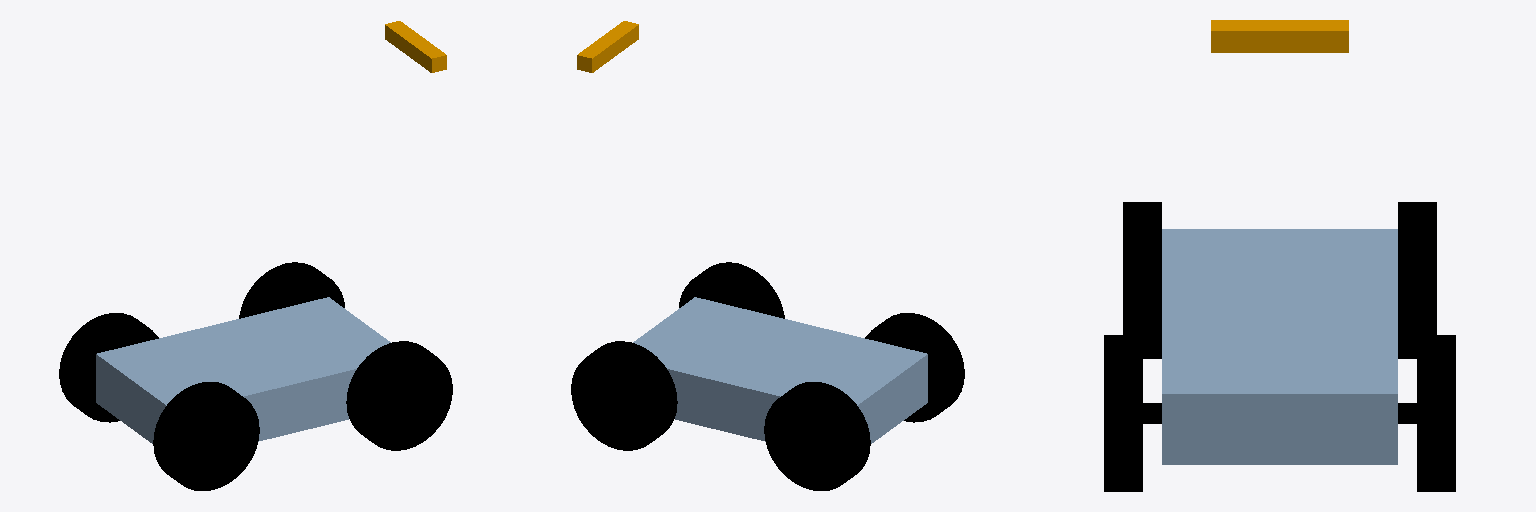
The robot description file, URDF, robot "simplecar":
<?xml version="1.0"?> 
<robot name="simplecar">
    <!-- Colors --> 
    <material name="black"> 
        <color rgba="0 0 0 1"/>
    </material>
    <material name="blue"> 
        <color rgba="0.6 0.7 0.8 1"/>
    </material>


    <!-- Base Frame of Car --> 
    <link name="base_link">
        <visual> 
            <origin rpy="0 0 0" xyz="0 0 0"/>
            <geometry> 
                <box size="0.5 0.3 0.1"/>
            </geometry>
            <material name="blue"/>
        </visual>
        <inertial>
            <mass value="6"/>
            <inertia ixx="0.1" ixy="0" ixz="0" iyy="0.1" iyz="0.0" izz="0.1"/>
        </inertial> 
    </link> 


    <!-- Left Front Wheel -->
    <link name="left_front_wheel">
        <visual> 
            <geometry> 
                <cylinder length="0.05" radius="0.1"/>
            </geometry>
            <origin rpy="1.57075 1.57075 0"/>
            <material name="black"/>
        </visual>
        <collision> 
             <geometry> 
                <cylinder length="0.05" radius="0.1"/>
            </geometry>
            <origin rpy="1.57075 1.57075 0"/>
        </collision> 
        <inertial> 
            <origin rpy="1.57075 1.57075 0"/>
            <mass value="0.3"/>
            <inertia ixx="0.4" ixy="0" ixz="0" iyy="0.4" iyz="0.0" izz="0.2"/>
        </inertial> 
    </link> 
    <joint name="left_hinge_to_left_front_wheel" type="continuous">
        <parent link="left_hinge"/>
        <child link="left_front_wheel"/> 
        <axis xyz="0 1 0"/>
        <origin xyz="0 0.2 0"/>
    </joint>
    <!-- Left Front Wheel - Hinge -->
    <link name="left_hinge">
        <visual> 
            <geometry> 
                <box size="0.20 0.02 0.02"/>
            </geometry>
            <origin xyz="0 0.1 0 " rpy="0 0 1.57075"/>
            <material name="black"/>
        </visual>
        <inertial> 
            <origin rpy="0 0 1.57075"/>
            <mass value="0.01"/>
            <inertia ixx="5E-6" ixy="0" ixz="0" iyy="5E-6" iyz="0" izz="5E-6"/>
        </inertial> 
    </link> 
    <joint name="base_to_left_hinge" type="revolute">
        <parent link="base_link"/>
        <child link="left_hinge"/> 
        <axis xyz="0 0 1"/>
        <origin xyz="0.2 0.0 0"/>
        <limit effort="100" lower="-0.5" upper="0.5" velocity="100"/>
    </joint>
    <!-- Right Front Wheel -->
    <link name="right_front_wheel">
        <visual> 
            <geometry> 
                <cylinder length="0.05" radius="0.1"/>
            </geometry>
            <origin rpy="-1.57075 -1.57075 0"/>
            <material name="black"/>
        </visual>
        <collision> 
             <geometry> 
                <cylinder length="0.05" radius="0.1"/>
            </geometry>
            <origin rpy="-1.57075 -1.57075 0"/>
        </collision> 
        <inertial> 
            <origin rpy="-1.57075 -1.57075 0"/>
            <mass value="0.3"/>
            <inertia ixx="0.4" ixy="0" ixz="0" iyy="0.4" iyz="0.0" izz="0.2"/>
        </inertial> 
    </link> 
    <joint name="right_hinge_to_right_front_wheel" type="continuous">
        <parent link="right_hinge"/>
        <child link="right_front_wheel"/> 
        <axis xyz="0 1 0"/>
        <origin xyz="0 -0.2 0"/>
    </joint>
    <!-- Right Front Wheel - Hinge -->
    <link name="right_hinge">
        <visual> 
            <geometry> 
                <box size="0.20 0.02 0.02"/>
            </geometry>
            <origin xyz="0 -0.1 0 " rpy="0 0 -1.57075"/>
            <material name="black"/>
        </visual>
        <inertial> 
            <origin rpy="0 0 -1.57075"/>
            <mass value="0.01"/>
            <inertia ixx="5E-6" ixy="0" ixz="0" iyy="5E-6" iyz="0" izz="5E-6"/>
        </inertial> 
    </link> 
    <joint name="base_to_right_hinge" type="revolute">
        <parent link="base_link"/>
        <child link="right_hinge"/> 
        <axis xyz="0 0 1"/>
        <origin xyz="0.2 0 0"/>
        <limit effort="100" lower="-0.5" upper="0.5" velocity="100"/>
    </joint>
    <!-- Left Back Wheel -->
    <link name="left_back_wheel">
        <visual> 
            <geometry> 
                <cylinder length="0.05" radius="0.1"/>
            </geometry>
            <origin rpy="1.57075 1.57075 0"/>
            <material name="black"/>
        </visual>
        <collision> 
             <geometry> 
                <cylinder length="0.05" radius="0.1"/>
            </geometry>
            <origin rpy="1.57075 1.57075 0"/>
        </collision> 
        <inertial> 
            <origin rpy="1.57075 1.57075 0"/>
            <mass value="0.3"/>
            <inertia ixx="0.4" ixy="0" ixz="0" iyy="0.4" iyz="0.0" izz="0.2"/>
        </inertial> 
    </link> 
    <joint name="base_to_left_back_wheel" type="continuous">
        <parent link="base_link"/>
        <child link="left_back_wheel"/> 
        <axis xyz="0 1 0"/>
        <origin xyz="-0.2 0.175 0"/>
    </joint>
    <!-- Right Back Wheel -->
    <link name="right_back_wheel">
        <visual> 
            <geometry> 
                <cylinder length="0.05" radius="0.1"/>
            </geometry>
            <origin rpy="-1.57075 -1.57075 0"/>
            <material name="black"/>
        </visual>
        <collision> 
             <geometry> 
                <cylinder length="0.05" radius="0.1"/>
            </geometry>
            <origin rpy="-1.57075 -1.57075 0"/>
        </collision> 
        <inertial> 
            <origin rpy="-1.57075 -1.57075 0"/>
            <mass value="0.3"/>
            <inertia ixx="0.4" ixy="0" ixz="0" iyy="0.4" iyz="0.0" izz="0.2"/>
        </inertial> 
    </link> 
    <joint name="base_to_right_back_wheel" type="continuous">
        <parent link="base_link"/>
        <child link="right_back_wheel"/> 
        <axis xyz="0 1 0"/>
        <origin xyz="-0.2 -0.175 0"/>
    </joint>
    <link name="laser">
    <inertial>
      <origin rpy="0 0 0" xyz="0 0 0"/>
      <mass value="0.130"/>
      <inertia ixx="4E-06" ixy="0" ixz="0" iyy="4E-06" iyz="0" izz="4E-06"/>
    </inertial>
    <collision>
      <origin rpy="0 0 0" xyz="0 0 0"/>
      <geometry>
        <box size="0.1 0.1 0.1"/>
      </geometry>
    </collision>
    <visual>
      <origin rpy="0 0 0" xyz="0 0 0"/>
      <geometry>
        <mesh filename="meshes/hokuyo.obj"/>
        <material name="grey"/>
      </geometry>
    </visual>
  </link>
  <joint name="hokuyo_joint" type="fixed">
    <origin rpy="0 0 0" xyz="0.1 0.0 0.075"/>
    <parent link="base_link"/>
    <child link="laser"/>
    <axis xyz="0 0 1"/>
  </joint>
  
  <!-- zed camera -->
  <link name="zed_camera_link">
    <inertial>
      <mass value="0.1"/>
      <origin rpy="0 0 0" xyz="0 0 0"/>
      <inertia ixx="1e-6" ixy="0" ixz="0" iyy="1e-6" iyz="0" izz="1e-6"/>
    </inertial>
    <collision>
      <origin rpy="0 0 0" xyz="0 0 0"/>
      <geometry>
        <box size="0.033 0.175 0.030"/>
      </geometry>
    </collision>
    <visual>
      <origin rpy="0 0 0" xyz="0 0 0"/>
      <geometry>
        <box size="0.033 0.175 0.030"/>
      </geometry>
      <material name="red"/>
    </visual>
  </link>
  <joint name="zed_camera_joint" type="fixed">
    <origin rpy="0 0 0" xyz="0.35 0 0.6"/>
    <!--origin rpy="0 89 0" xyz="1 0 1"/-->
    <parent link="base_link"/>
    <child link="zed_camera_link"/>
    <axis xyz="0 0 1"/>
  </joint>

  
  <!-- zed camera lenses -->
  <!-- It seems these have to have a non-zero mass to have a camera attached? -->
  <link name="camera_link">
    <!-- this needs to match the name in zed_wrapper/zed_tf.launch -->
    <inertial>
      <mass value="0.01"/>
      <origin rpy="0 0 0" xyz="0 0 0"/>
      <inertia ixx="1e-6" ixy="0" ixz="0" iyy="1e-6" iyz="0" izz="1e-6"/>
    </inertial>
  </link>
  <link name="zed_camera_right_link">
    <inertial>
      <mass value="0.01"/>
      <origin rpy="0 0 0" xyz="0 0 0"/>
      <inertia ixx="1e-6" ixy="0" ixz="0" iyy="1e-6" iyz="0" izz="1e-6"/>
    </inertial>
  </link>
  <joint name="zed_camera_left_joint" type="fixed">
    <origin rpy="0 0 0" xyz="0 0.06 0"/>
    <parent link="zed_camera_link"/>
    <child link="camera_link"/>
    <axis xyz="0 0 1"/>
  </joint>
  <joint name="zed_camera_right_joint" type="fixed">
    <origin rpy="0 0 0" xyz="0 -0.06 0"/>
    <parent link="zed_camera_link"/>
    <child link="zed_camera_right_link"/>
    <axis xyz="0 0 1"/>
  </joint>
</robot>

--- Facts derived from the render (not from the file) ---
Views: 3 orthographic renders of the robot side by side, from view 1: azimuth 30°, elevation 25°; view 2: azimuth 150°, elevation 25°; view 3: azimuth 270°, elevation 25°.
Robot: simplecar — 11 links, 10 joints (2 revolute, 4 continuous, 4 fixed); root link base_link; default pose: every joint at zero.
Visible links, largest first — view 1: base_link, right_front_wheel, right_back_wheel, left_back_wheel, left_front_wheel, zed_camera_link; view 2: base_link, left_front_wheel, left_back_wheel, right_back_wheel, right_front_wheel, zed_camera_link; view 3: base_link, left_front_wheel, right_front_wheel, left_back_wheel, right_back_wheel, zed_camera_link.
Link boxes in pixels (x1,y1,x2,y2): base_link: (96,297,390,443); right_front_wheel: (346,341,452,450); right_back_wheel: (153,382,259,490); left_back_wheel: (59,313,158,422); left_front_wheel: (239,262,344,318); zed_camera_link: (385,21,446,72); base_link: (633,297,927,443); left_front_wheel: (571,341,677,450); left_back_wheel: (764,382,870,490); right_back_wheel: (865,313,964,422); right_front_wheel: (679,262,784,318); zed_camera_link: (577,21,638,72); base_link: (1162,229,1397,464); left_front_wheel: (1417,335,1455,491); right_front_wheel: (1104,335,1142,491); left_back_wheel: (1398,202,1436,358); right_back_wheel: (1123,202,1161,358); zed_camera_link: (1211,20,1348,52).
Bounding box of the posed robot: 0.6665 × 0.45 × 0.715 m (x, y, z).
0 mesh visuals loaded from 1 distinct referenced files (none loaded); not drawn: 1 (reference not matched to a file when rendering).